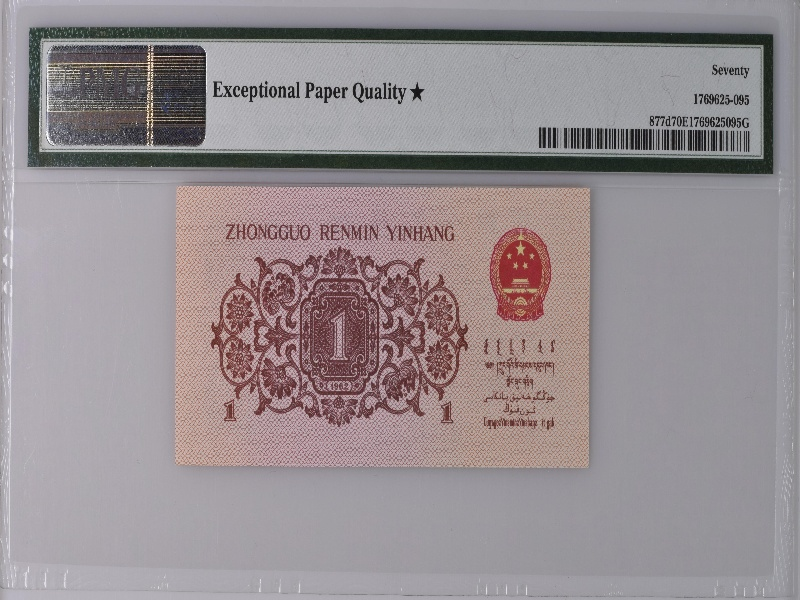papernote: (174, 182, 594, 472)
